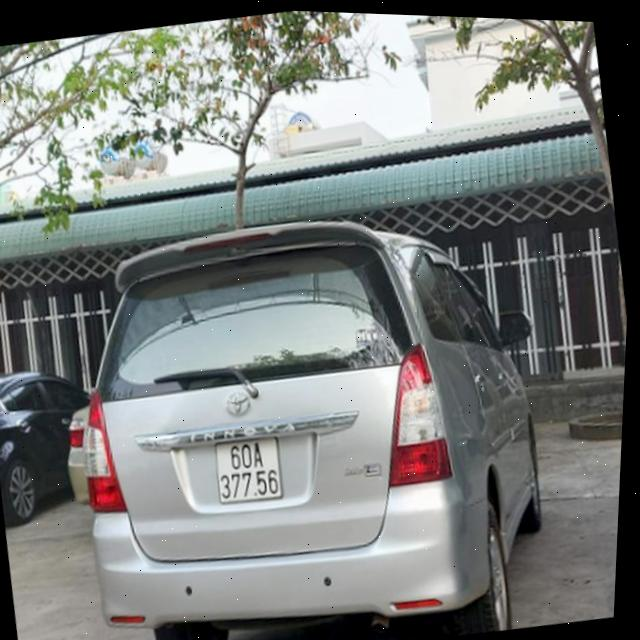car: (34, 176, 559, 640), (0, 359, 92, 535)
plate: (203, 425, 297, 515)
